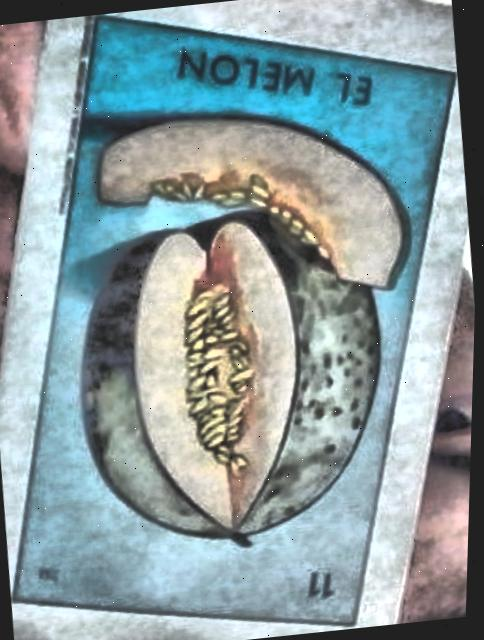El Melon: (15, 19, 454, 628)
